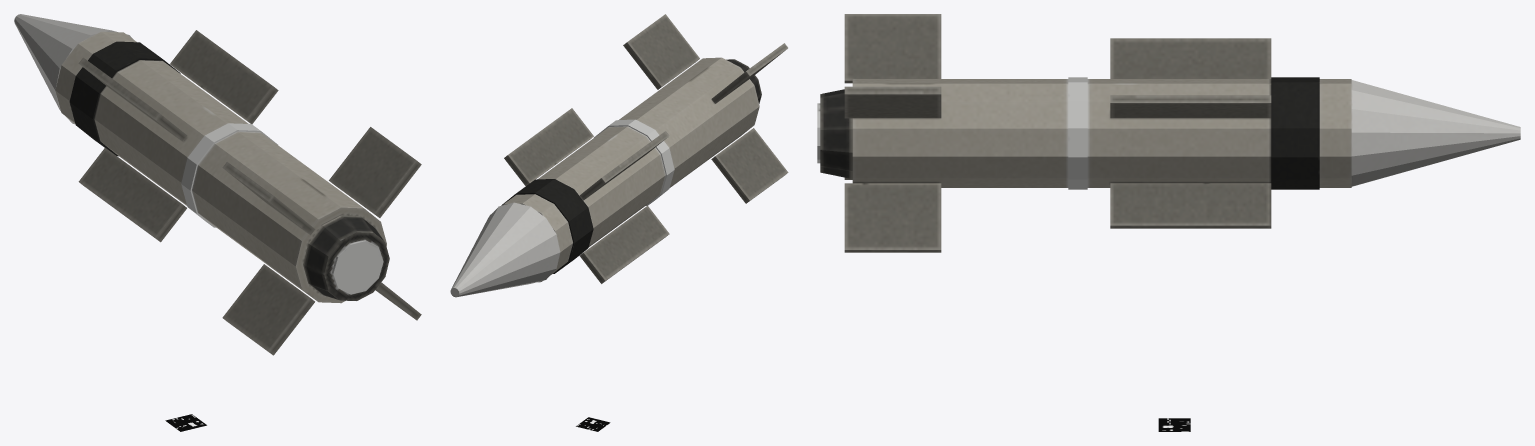
The model's file is ord_radar_sam.fbx.
3 views of the same model, side by side, from view 1: azimuth 30°, elevation 25°; view 2: azimuth 150°, elevation 25°; view 3: azimuth 270°, elevation 25° (orthographic). The views are drawn at different scales.
Visible parts, largest first — view 1: base_bar, base_glow_weapon_bar, base_glow_running_bar, emissive_probe; view 2: base_bar, base_glow_running_bar; view 3: base_bar, base_glow_running_bar.
Part boxes in pixels (x1,y1,x2,y2): base_bar: [14, 14, 421, 355]; base_glow_weapon_bar: [332, 240, 383, 294]; base_glow_running_bar: [181, 123, 277, 227]; emissive_probe: [165, 414, 206, 431]; base_bar: [450, 14, 788, 297]; base_glow_running_bar: [594, 119, 674, 205]; base_bar: [820, 14, 1520, 252]; base_glow_running_bar: [1068, 77, 1087, 189].
Bounding box in the file's own units: 114 × 257 × 437.
2 materials, 2 textured.
